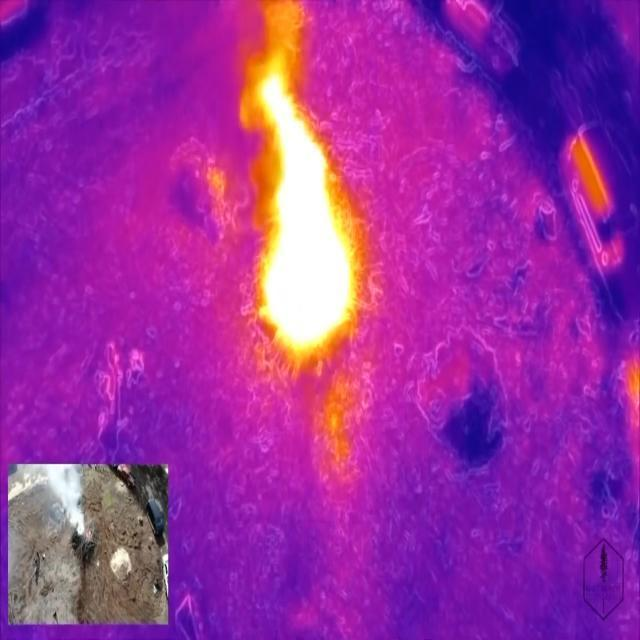fire: (256, 70, 361, 361)
